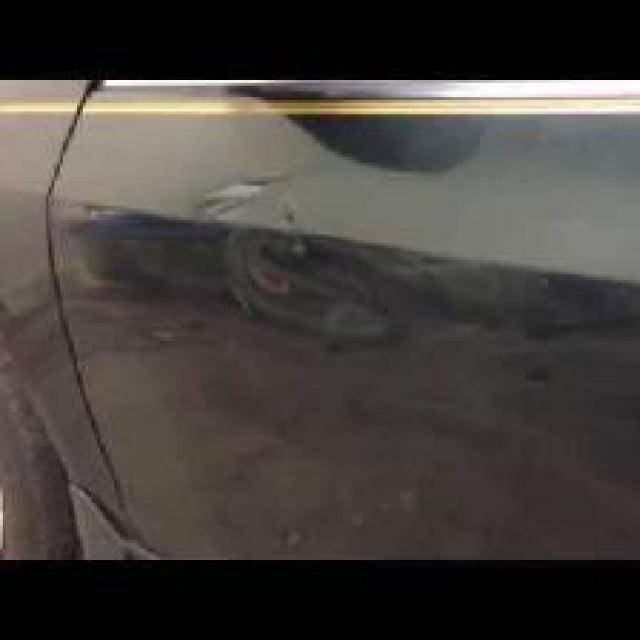damaged: (66, 180, 392, 360)
